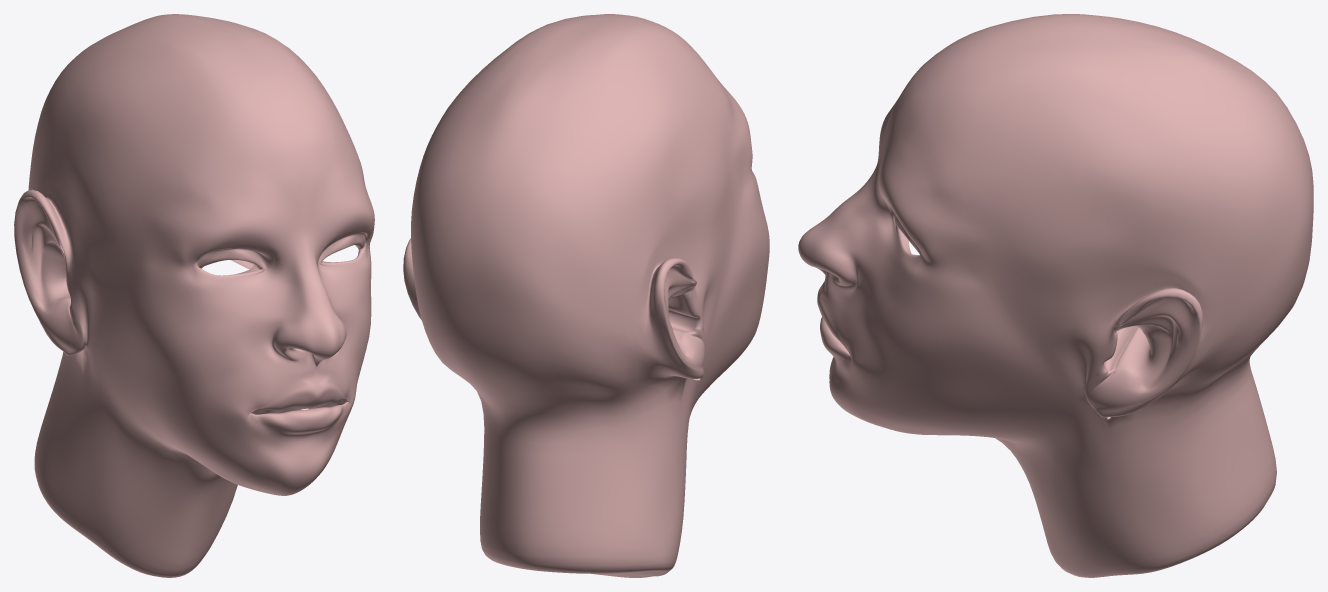
3 renders of one model, left to right at view 1: azimuth 30°, elevation 25°; view 2: azimuth 150°, elevation 25°; view 3: azimuth 270°, elevation 25°, orthographic. The views are drawn at different scales.
Parts seen in each view (by area): view 1: head_0; view 2: head_0; view 3: head_0.
Part boxes in pixels (box(x1,y1,x2,y2)): head_0: box(14, 14, 374, 577); head_0: box(403, 14, 769, 577); head_0: box(798, 14, 1313, 577).
Size of the model in its own units: 4.59 by 8.73 by 7.31.
